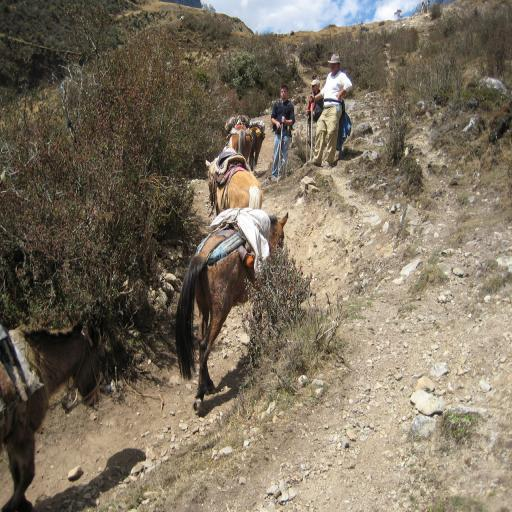horse: (176, 210, 290, 416), (0, 314, 98, 512), (204, 144, 264, 210), (226, 117, 262, 160)
